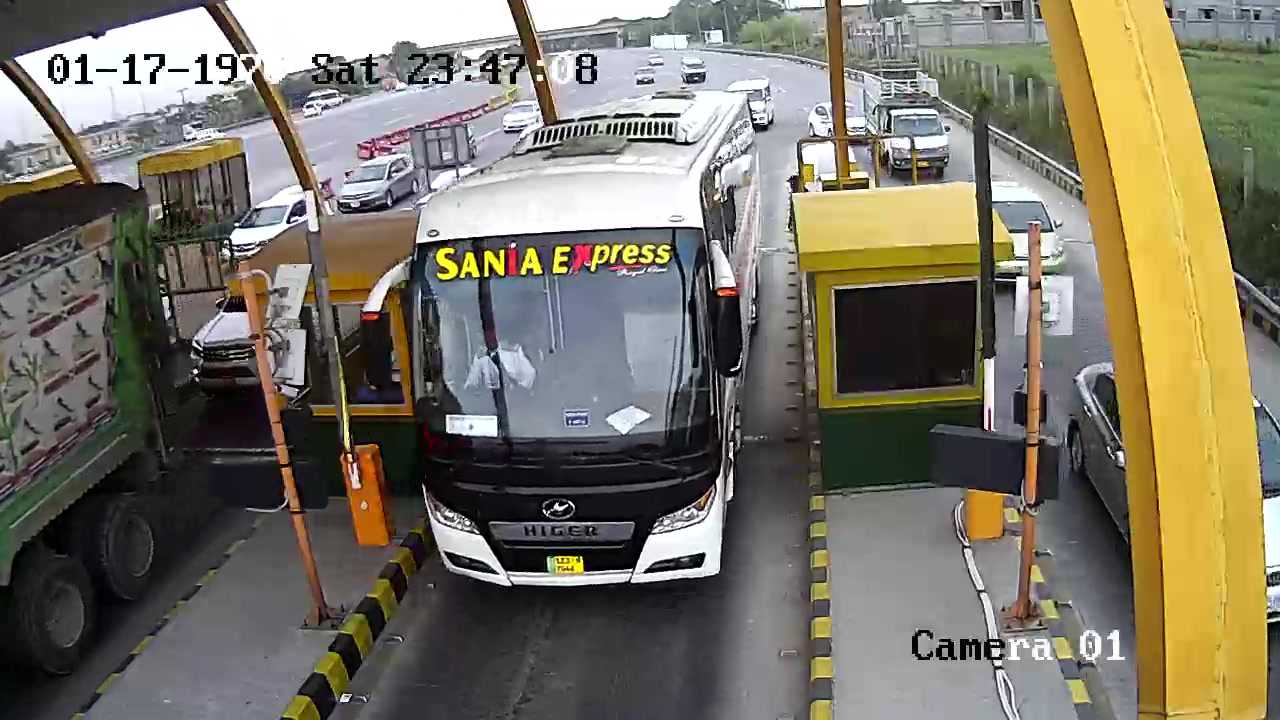F4: (416, 93, 755, 599)
